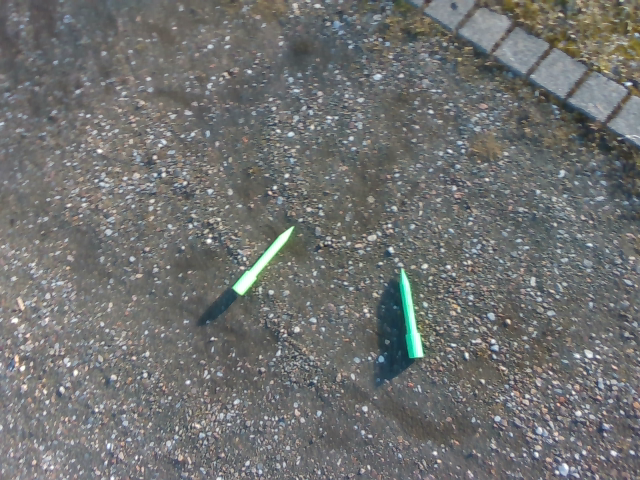Probe: (226, 219, 297, 300), (394, 264, 426, 365)
